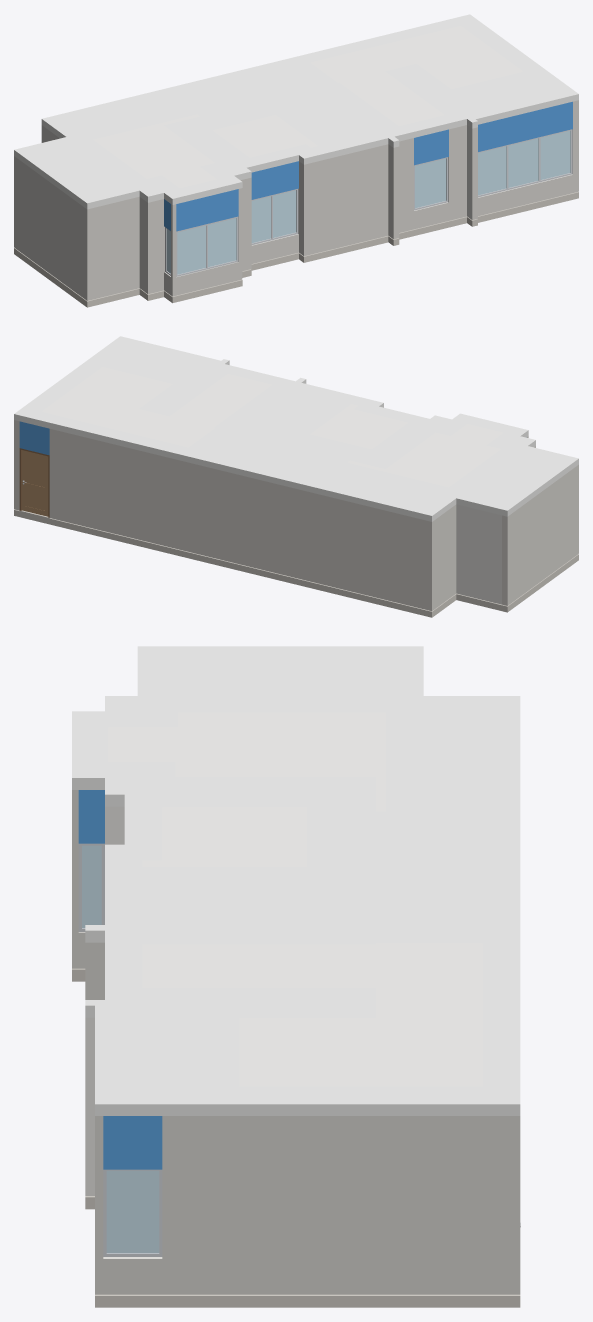
The model's file is 2BHK_Windgates_3dsMax.fbx.
3 renders of one model, top to bottom at view 1: azimuth 30°, elevation 25°; view 2: azimuth 150°, elevation 25°; view 3: azimuth 270°, elevation 25°, orthographic. The views are drawn at different scales.
Parts seen in each view (by area): view 1: Ceiling_Slab, Room_01_Recessed_Ceiling_Plane, Wall_005, Wall_011, Wall_012, Room_02_Recessed_Ceiling_Plane, Floor_Slab, Wall_017, Lintel_Window_001, Room_03_Recessed_Ceiling_Plane, Wall_001, Sill_Window_03 (+25 smaller); view 2: Ceiling_Slab, Wall_002, Room_01_Recessed_Ceiling_Plane, Wall_005, Wall_003, Room_02_Recessed_Ceiling_Plane, Floor_Slab, Room_03_Recessed_Ceiling_Plane, Wall_014, Door_01_Leaf, Lintel_Door_006, Wall_004; view 3: Ceiling_Slab, Wall_004, Room_01_Recessed_Ceiling_Plane, Room_02_Recessed_Ceiling_Plane, Room_03_Recessed_Ceiling_Plane, Floor_Slab, Vent_03_Glass_01, Lintel_Window_003, Sill_Vent_03, Wall_006, Vent_05_Glass_01, Post_01 (+4 smaller).
Part boxes in pixels (x1,y1,x2,y2): Ceiling_Slab: (14,14,578,209); Room_01_Recessed_Ceiling_Plane: (311,26,522,125); Wall_005: (14,156,92,300); Wall_011: (340,144,388,247); Wall_012: (93,196,139,299); Room_02_Recessed_Ceiling_Plane: (94,114,215,187); Floor_Slab: (14,192,578,307); Wall_017: (302,156,340,255); Lintel_Window_001: (478,101,572,151); Room_03_Recessed_Ceiling_Plane: (213,115,316,157); Wall_001: (139,197,164,294); Sill_Window_03: (478,174,572,215); Ceiling_Slab: (14,336,578,521); Wall_002: (49,429,434,610); Room_01_Recessed_Ceiling_Plane: (42,367,271,447); Wall_005: (502,464,578,605); Wall_003: (456,504,501,604); Room_02_Recessed_Ceiling_Plane: (348,424,502,486); Floor_Slab: (14,509,578,617); Room_03_Recessed_Ceiling_Plane: (311,404,407,448); Wall_014: (434,504,456,609); Door_01_Leaf: (22,450,48,516); Lintel_Door_006: (19,421,49,455); Wall_004: (14,420,19,510); Ceiling_Slab: (72,646,520,1115); Wall_004: (162,1116,520,1294); Room_01_Recessed_Ceiling_Plane: (142,943,482,1086); Room_02_Recessed_Ceiling_Plane: (108,712,385,811); Room_03_Recessed_Ceiling_Plane: (142,807,306,866); Floor_Slab: (72,968,520,1307); Vent_03_Glass_01: (106,1170,159,1253); Lintel_Window_003: (103,1116,162,1169); Sill_Vent_03: (103,1257,162,1294); Wall_006: (85,1017,94,1195); Vent_05_Glass_01: (82,845,101,928); Post_01: (95,1116,103,1294).
Size of the model in its own units: 16.5 by 3.42 by 6.83.
